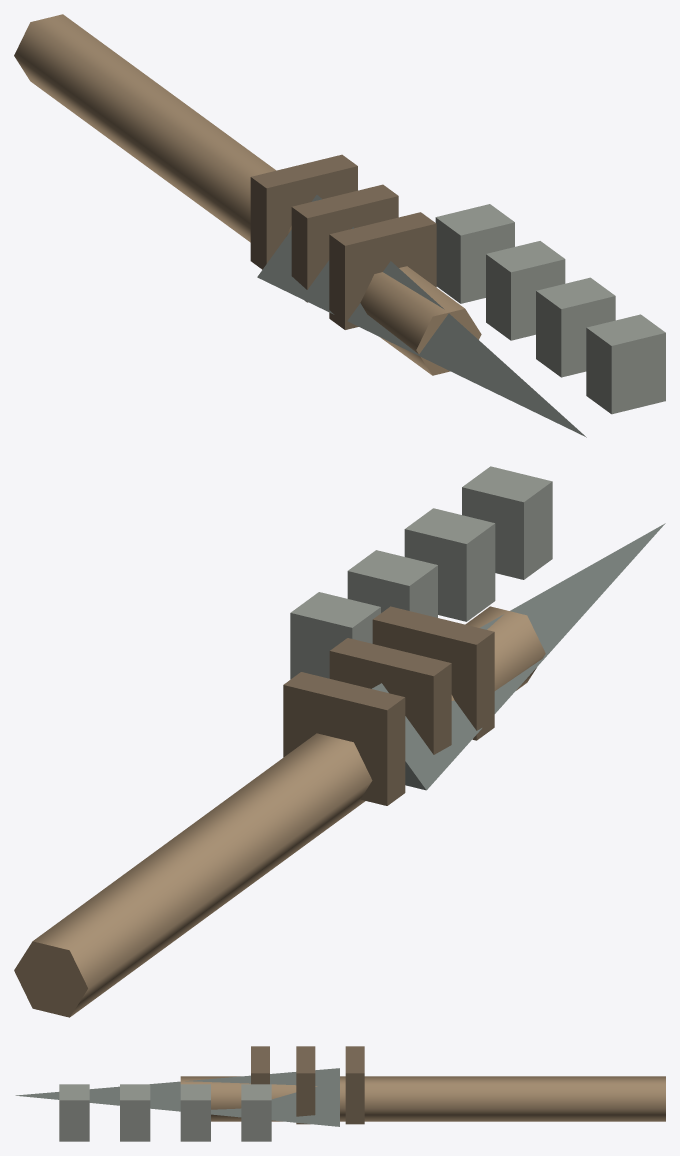
The model's file is spread-portable-forged-spike-willow-serrated.fbx.
The picture shows the model from 3 angles, top to bottom: view 1: azimuth 30°, elevation 25°; view 2: azimuth 150°, elevation 25°; view 3: azimuth 270°, elevation 25°; orthographic projection. The views are drawn at different scales.
Parts seen in each view (by area): view 1: spread-portable-forged-spike-willow-serrated__Geometry; view 2: spread-portable-forged-spike-willow-serrated__Geometry; view 3: spread-portable-forged-spike-willow-serrated__Geometry.
Part boxes in pixels (box(x1,y1,x2,y2)): spread-portable-forged-spike-willow-serrated__Geometry: box(14, 14, 665, 437); spread-portable-forged-spike-willow-serrated__Geometry: box(14, 466, 665, 1017); spread-portable-forged-spike-willow-serrated__Geometry: box(15, 1046, 665, 1141).
Bounding box in the file's own units: 0.162 × 0.083 × 0.86.
